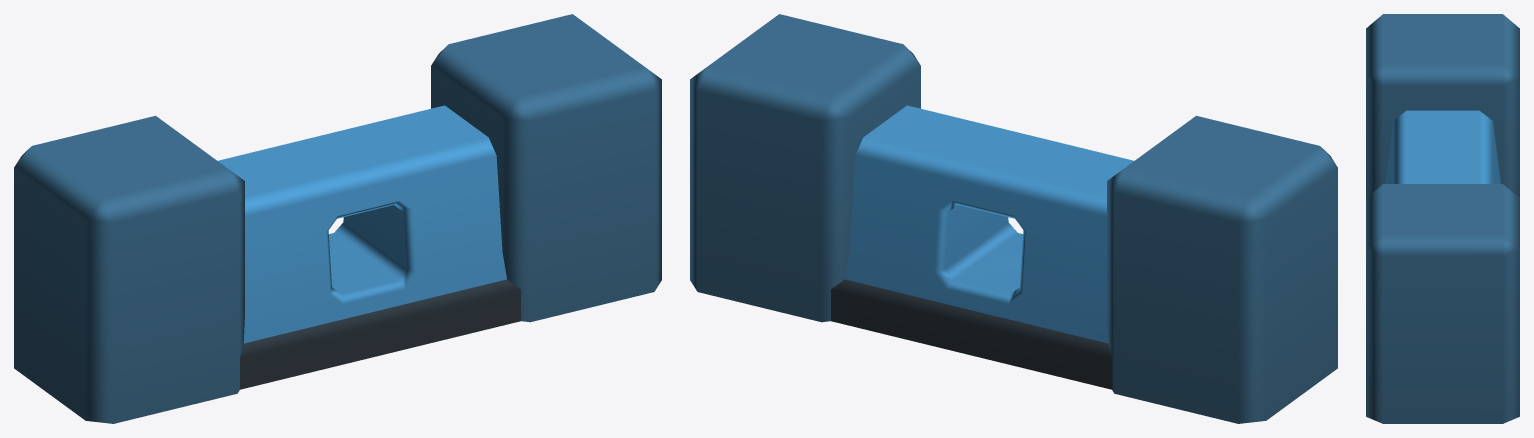
The model's file is Fence_Prop.fbx.
The picture shows the model from 3 angles, left to right: view 1: azimuth 30°, elevation 25°; view 2: azimuth 150°, elevation 25°; view 3: azimuth 270°, elevation 25°; orthographic projection. The views are drawn at different scales.
Parts seen in each view (by area): view 1: Fence_Prop, FenceSeg_Prop, FencePost_Prop; view 2: Fence_Prop, FenceSeg_Prop, FencePost_Prop; view 3: FencePost_Prop, Fence_Prop, FenceSeg_Prop.
Part boxes in pixels (bbox=[...]): Fence_Prop: bbox=[14, 115, 505, 423]; FenceSeg_Prop: bbox=[218, 105, 520, 389]; FencePost_Prop: bbox=[431, 14, 661, 322]; Fence_Prop: bbox=[845, 115, 1337, 423]; FenceSeg_Prop: bbox=[831, 105, 1133, 389]; FencePost_Prop: bbox=[690, 14, 920, 322]; FencePost_Prop: bbox=[1366, 184, 1519, 423]; Fence_Prop: bbox=[1366, 14, 1519, 197]; FenceSeg_Prop: bbox=[1385, 110, 1500, 183].
Size of what is drawn, in the model's own units: 1.38 by 0.3822 by 0.5001.
